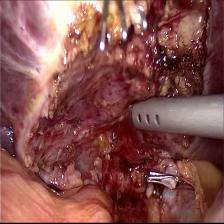Irrigator: (130, 90, 180, 142)
